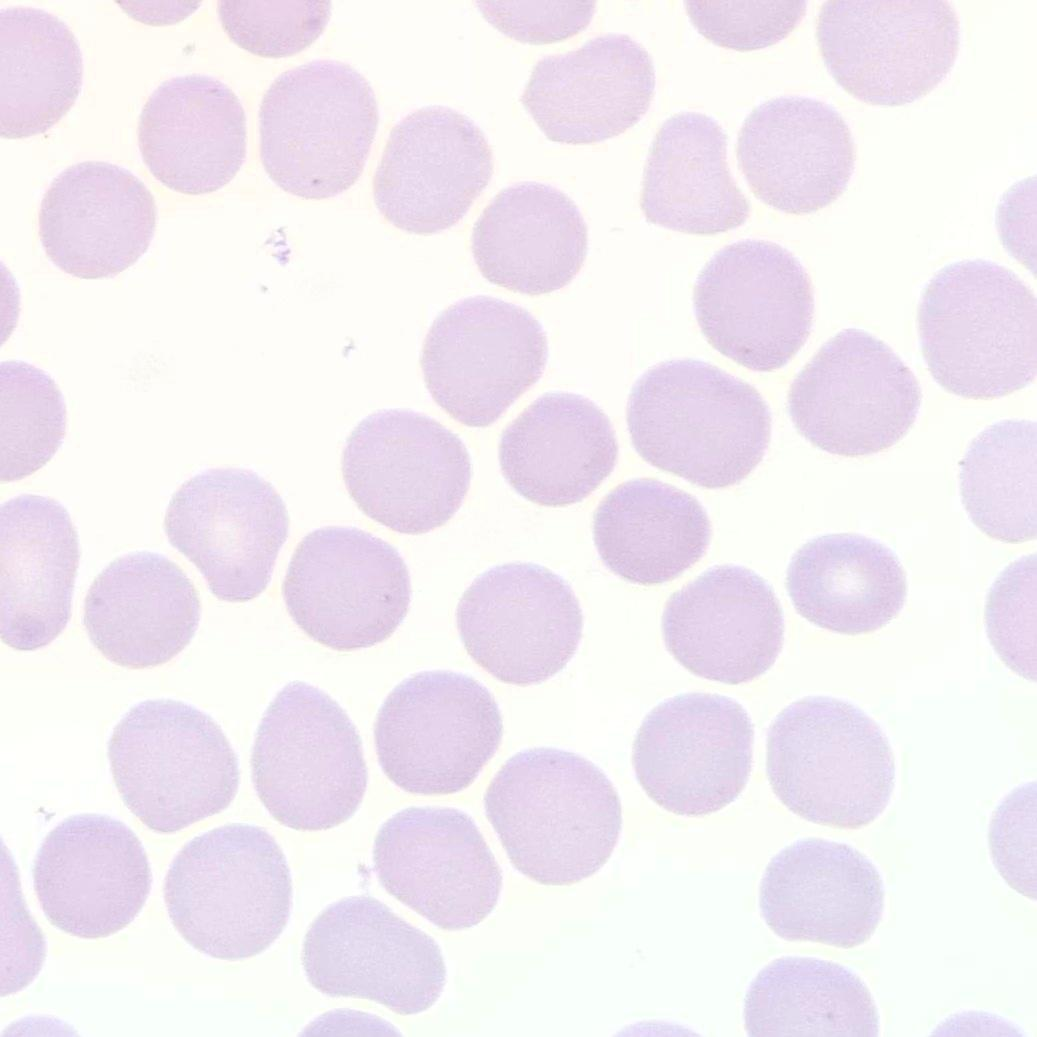Uninfected: (628, 358, 771, 491), (248, 681, 369, 833), (484, 751, 619, 885), (106, 698, 236, 836), (300, 896, 444, 1017), (164, 824, 293, 959), (164, 467, 291, 602), (763, 697, 892, 829), (916, 259, 1037, 399), (258, 61, 382, 197), (788, 330, 920, 457), (282, 526, 412, 654), (339, 409, 470, 535), (370, 806, 501, 931), (693, 239, 815, 372), (372, 672, 499, 798), (420, 297, 544, 424), (456, 562, 582, 684), (634, 695, 758, 817), (659, 565, 783, 686), (32, 812, 149, 940), (372, 108, 492, 232), (523, 34, 654, 146), (820, 0, 956, 105), (38, 160, 156, 280), (735, 96, 853, 216), (84, 553, 200, 672), (759, 838, 885, 947), (496, 393, 615, 506), (639, 113, 748, 236), (139, 74, 250, 194), (469, 183, 586, 296), (591, 479, 709, 587), (786, 532, 905, 637)
